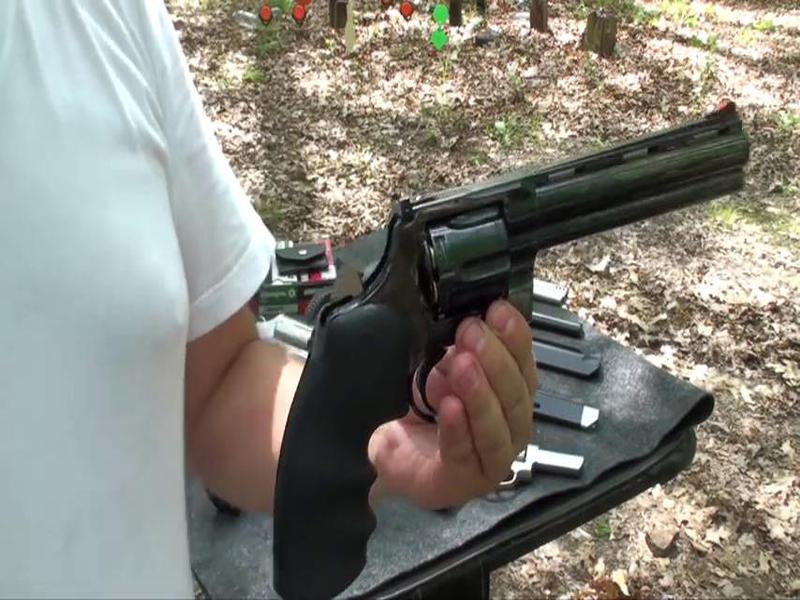Revolver: (292, 96, 754, 479)
